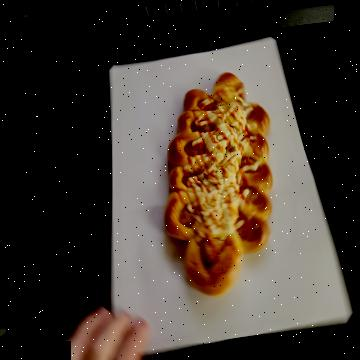pizza_bread: (166, 69, 272, 300)
